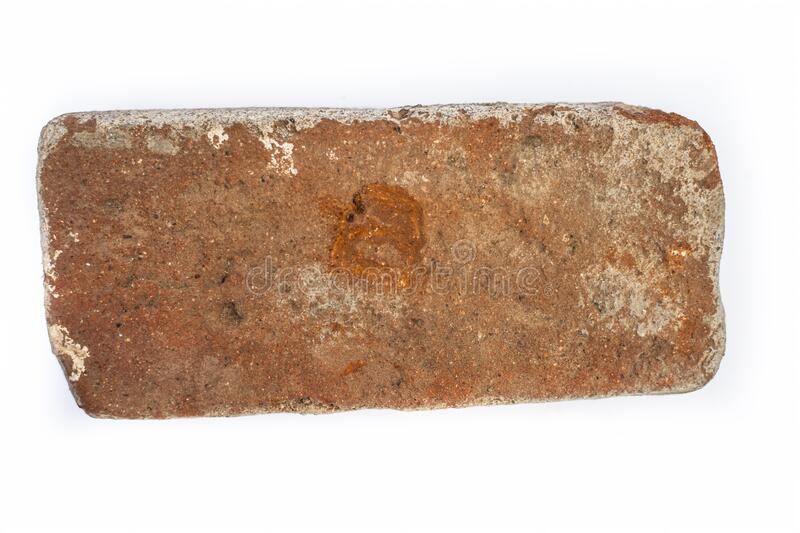brick: (43, 113, 714, 387)
